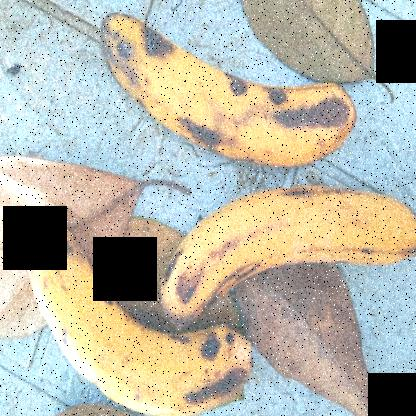overripe: (82, 1, 359, 190), (23, 206, 260, 415)
ripe: (157, 169, 415, 341)
